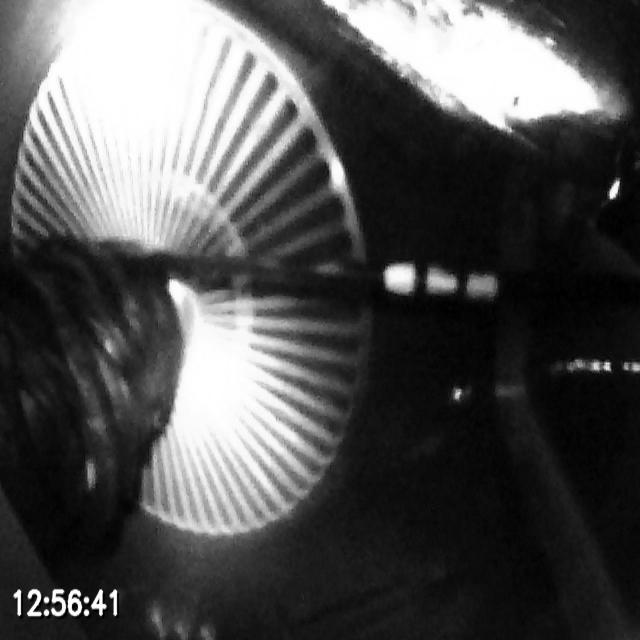white-dots: (384, 262, 496, 300)
